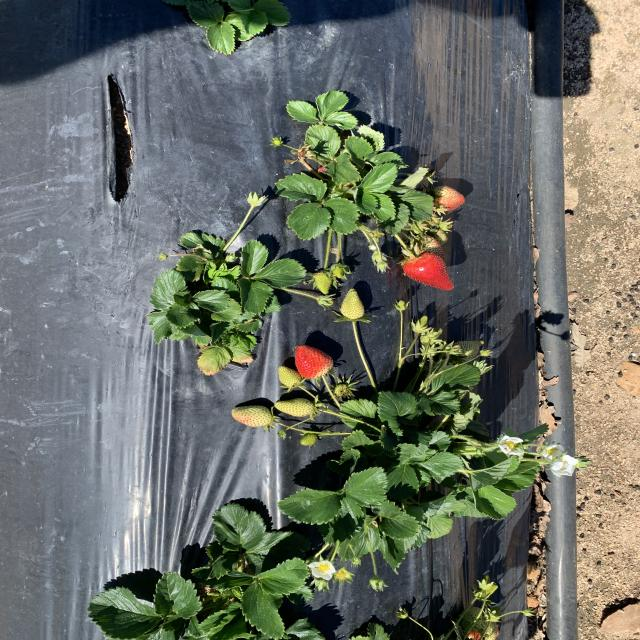unripe: (401, 250, 459, 294), (294, 346, 336, 378)
